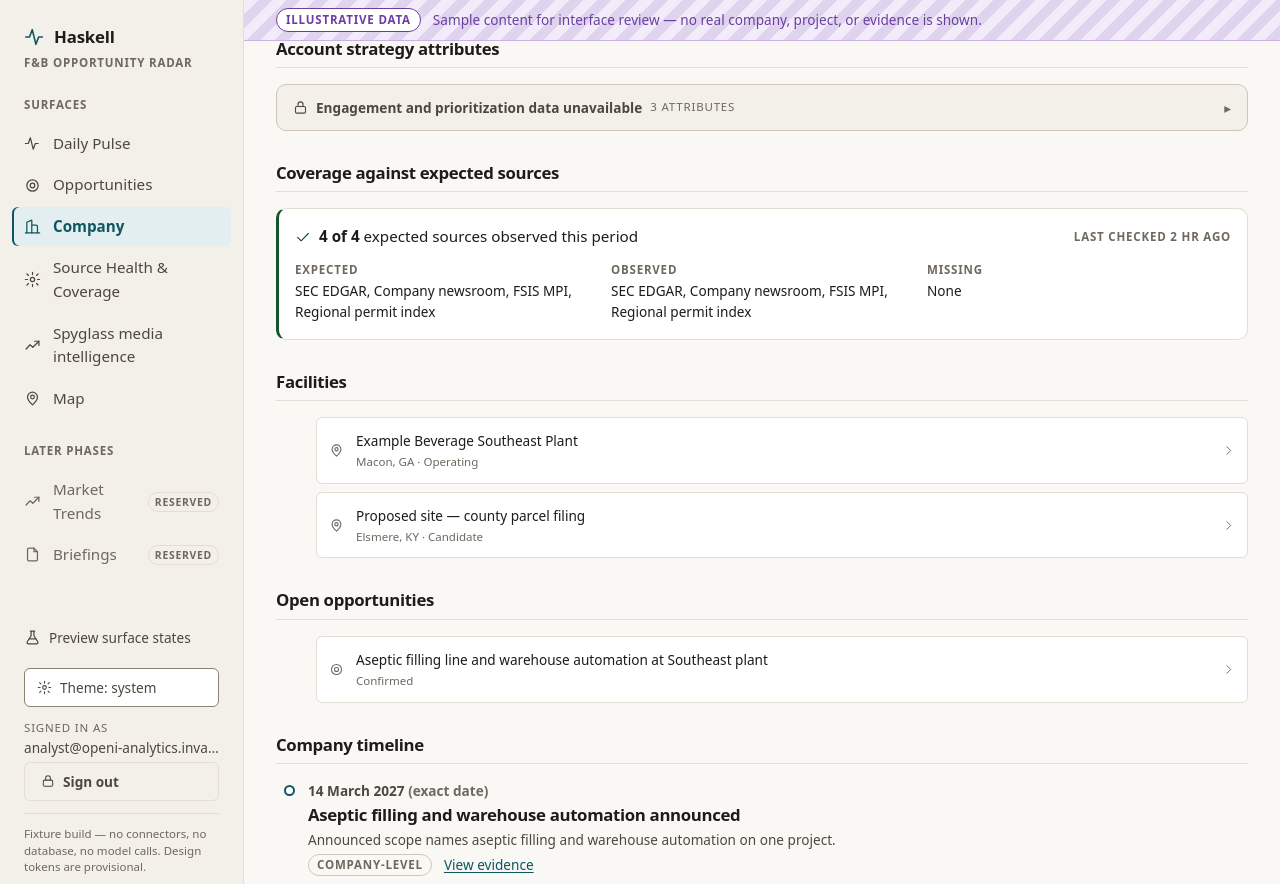
Scenario: record-scoped parameters do not leak across records › drops the as-at date when moving to a different record
(page scrolled)
Click the link "Example Beverage Southeast Plant Macon, GA · Operating" at {"x": 467, "y": 440}, box top-left (316, 417), bottom-right (1248, 484)
(page scrolled)
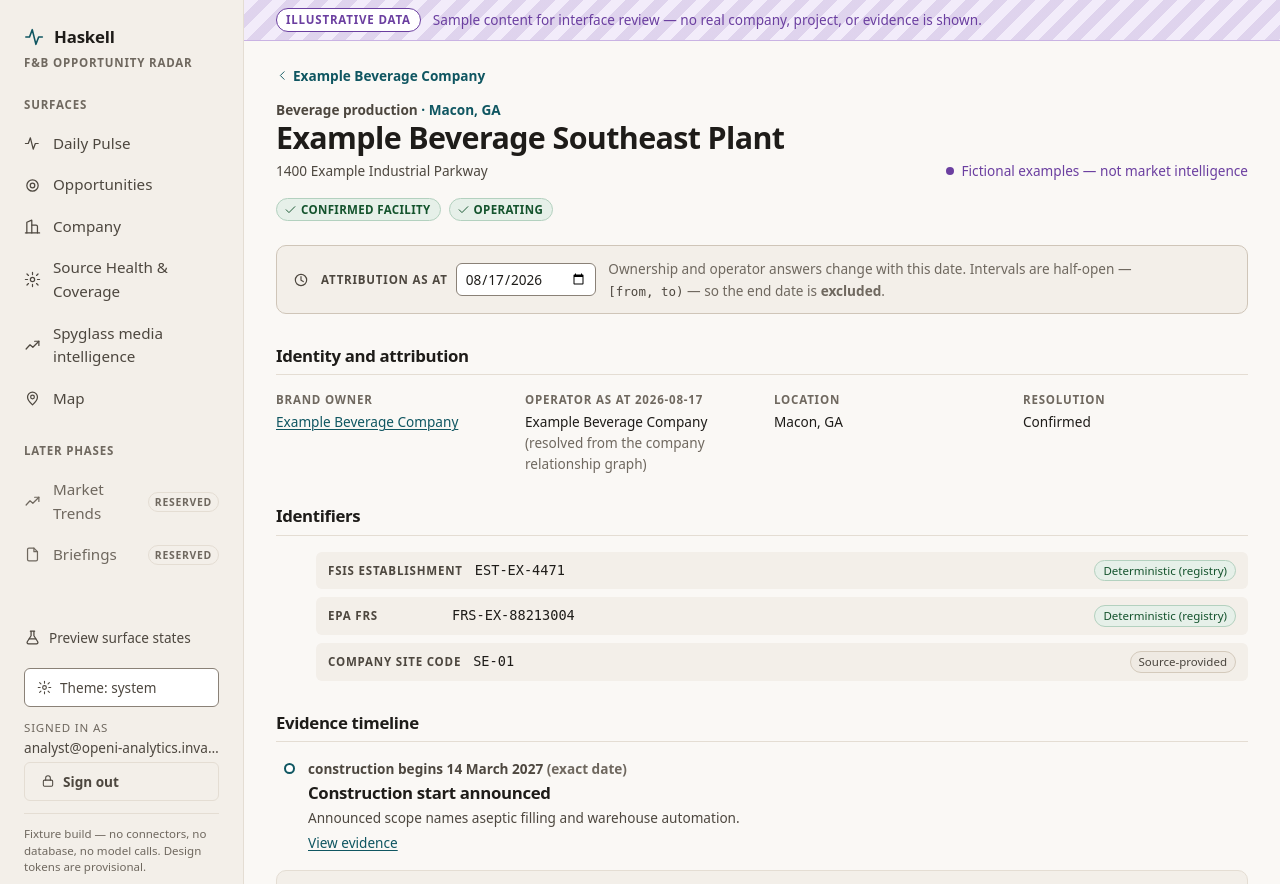
Check: the heading "Example Beverage Southeast Plant" is shown, box top-left (276, 120), bottom-right (784, 156)
